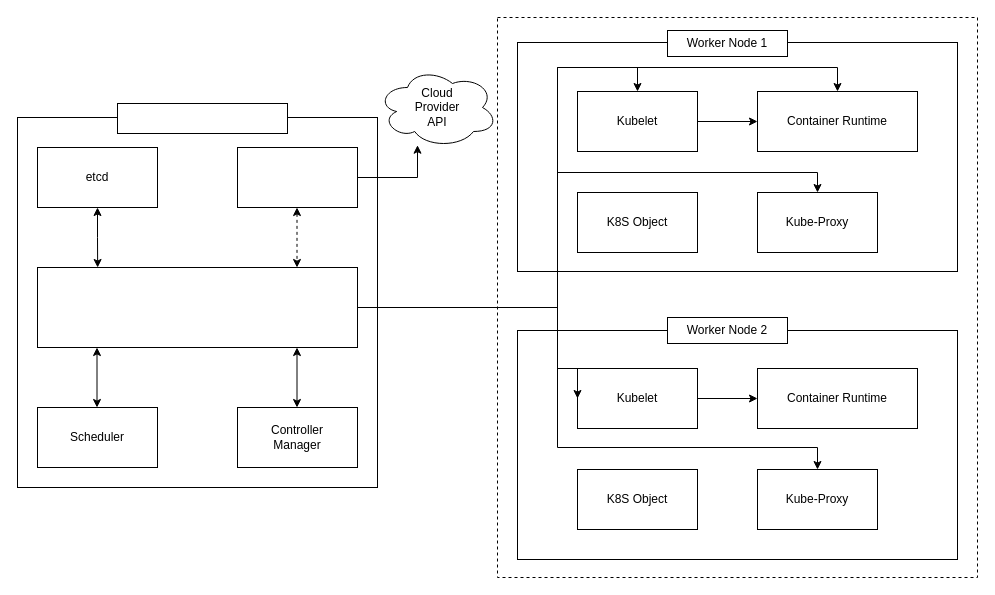
Image size: 995x595. Some labels were removed from this diagram. The centre of each missing label's shape, as x and y in pixels:
"API Server" belongs at point (197, 307).
"Cloud Controller Manager" belongs at point (297, 177).
"Control Plan ( Master Node )" belongs at point (202, 118).
